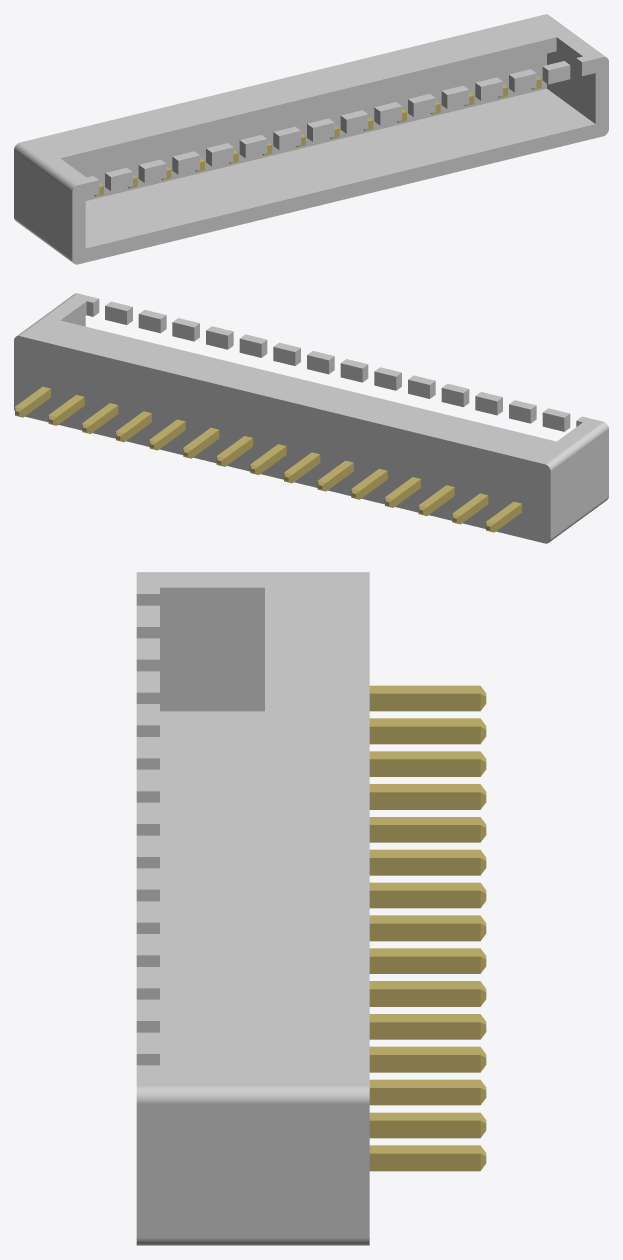
Rendered from jst_ph_15pin.glb.
3 views of the same model, one above another, from view 1: azimuth 30°, elevation 25°; view 2: azimuth 150°, elevation 25°; view 3: azimuth 270°, elevation 25° (orthographic). The views are drawn at different scales.
Parts seen in each view (by area): view 1: world; view 2: world; view 3: world.
Part boxes in pixels (x1,y1,x2,y2): world: [14, 14, 608, 264]; world: [14, 293, 608, 543]; world: [136, 572, 486, 1245].
Size of the model in its own units: 31.9 by 4.5 by 9.
